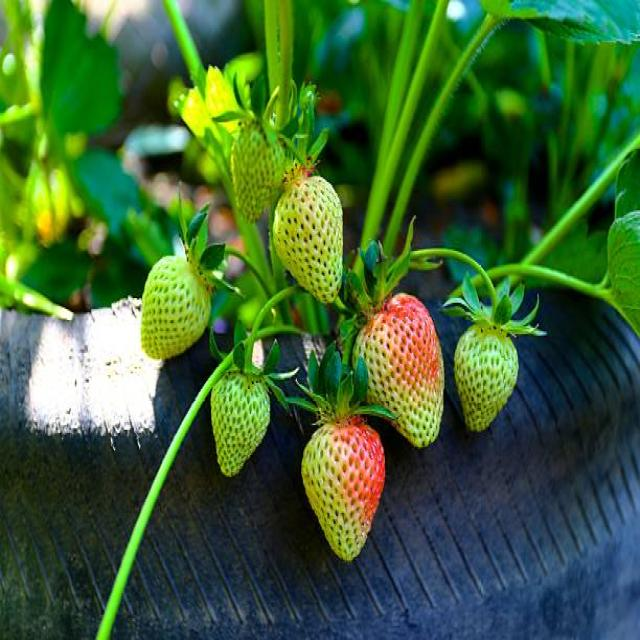Healthy Fruit: (352, 292, 446, 448), (302, 423, 386, 561), (273, 176, 343, 304), (139, 253, 212, 359), (454, 327, 519, 434), (212, 372, 271, 479)
